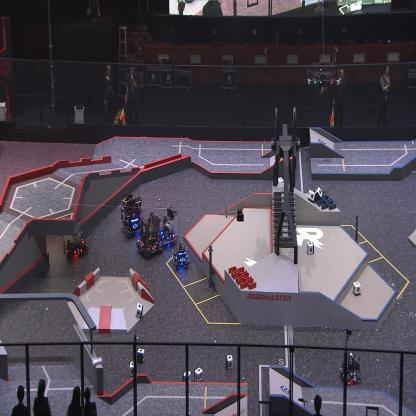car: (135, 212, 163, 259), (119, 192, 146, 236), (62, 217, 88, 259), (157, 205, 180, 251), (339, 351, 363, 383), (172, 240, 190, 272)
